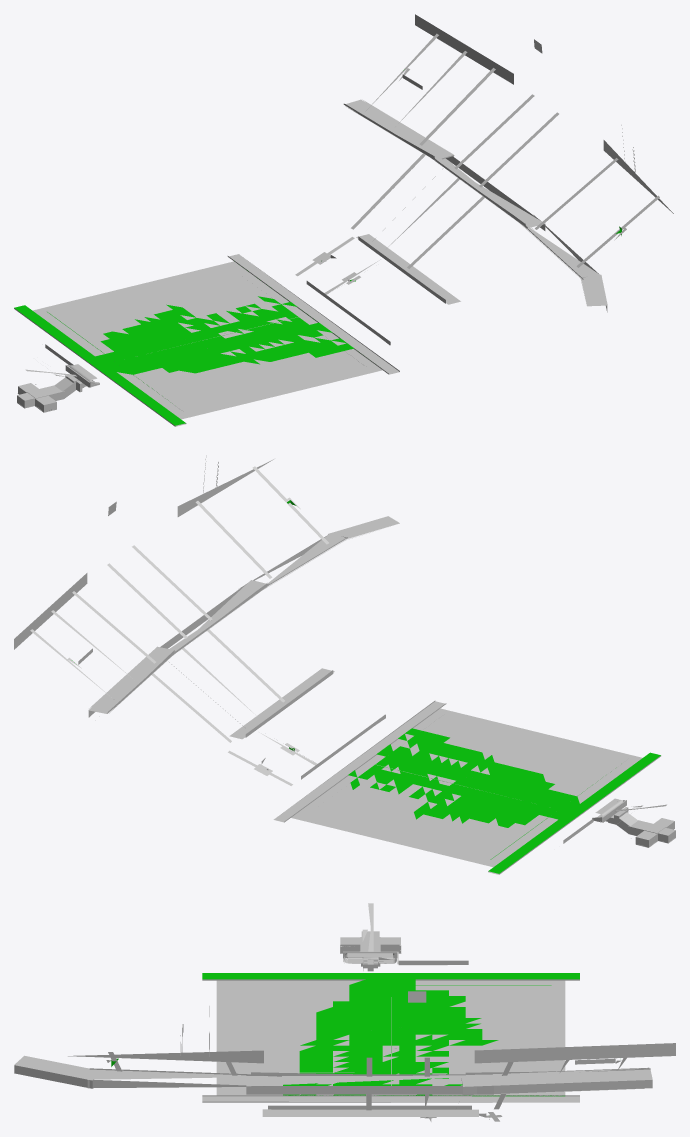
Rendered from Vestuario.obj.
The picture shows the model from 3 angles, top to bottom: view 1: azimuth 30°, elevation 25°; view 2: azimuth 150°, elevation 25°; view 3: azimuth 270°, elevation 25°; orthographic projection. The views are drawn at different scales.
Parts seen in each view (by area): view 1: PRUEBA2.002, PRUEBA2.003, PRUEBA2.004; view 2: PRUEBA2.002, PRUEBA2.003, PRUEBA2.004; view 3: PRUEBA2.002, PRUEBA2.003, PRUEBA2.004.
Part boxes in pixels (left/top/right/bottom): PRUEBA2.002: left=14, top=39, right=659, bottom=426; PRUEBA2.003: left=14, top=14, right=673, bottom=423; PRUEBA2.004: left=25, top=237, right=388, bottom=398; PRUEBA2.002: left=88, top=466, right=675, bottom=874; PRUEBA2.003: left=14, top=455, right=646, bottom=873; PRUEBA2.004: left=228, top=703, right=666, bottom=841; PRUEBA2.002: left=14, top=929, right=652, bottom=1117; PRUEBA2.003: left=68, top=944, right=675, bottom=1109; PRUEBA2.004: left=202, top=903, right=579, bottom=1121.
Size of the model in its own units: 107 by 41.66 by 97.73.
